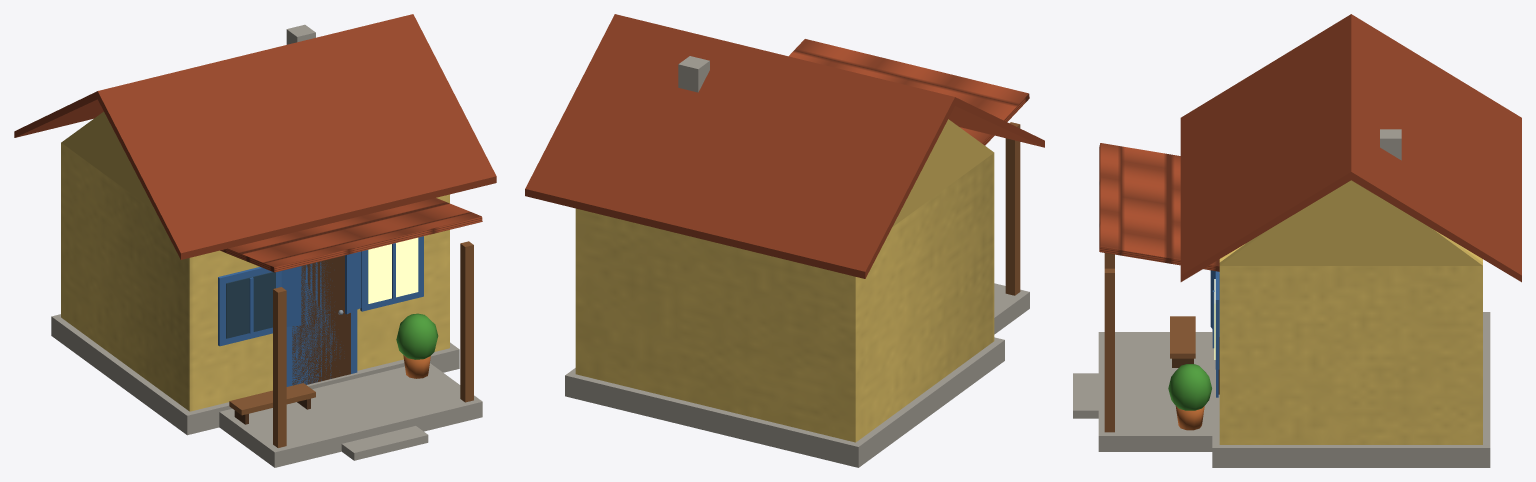
File: prop_rumah_kuning.glb
3 renders of one model, left to right at view 1: azimuth 30°, elevation 25°; view 2: azimuth 150°, elevation 25°; view 3: azimuth 270°, elevation 25°, orthographic. The views are drawn at different scales.
Parts seen in each view (by area): view 1: rumah_kuning; view 2: rumah_kuning; view 3: rumah_kuning.
Part boxes in pixels (left/top/right/bottom): rumah_kuning: left=14, top=14, right=496, bottom=467; rumah_kuning: left=525, top=14, right=1044, bottom=467; rumah_kuning: left=1073, top=14, right=1521, bottom=467.
Size of the model in its own units: 5.1 by 4.63 by 6.13.
11 materials, 2 textured.
